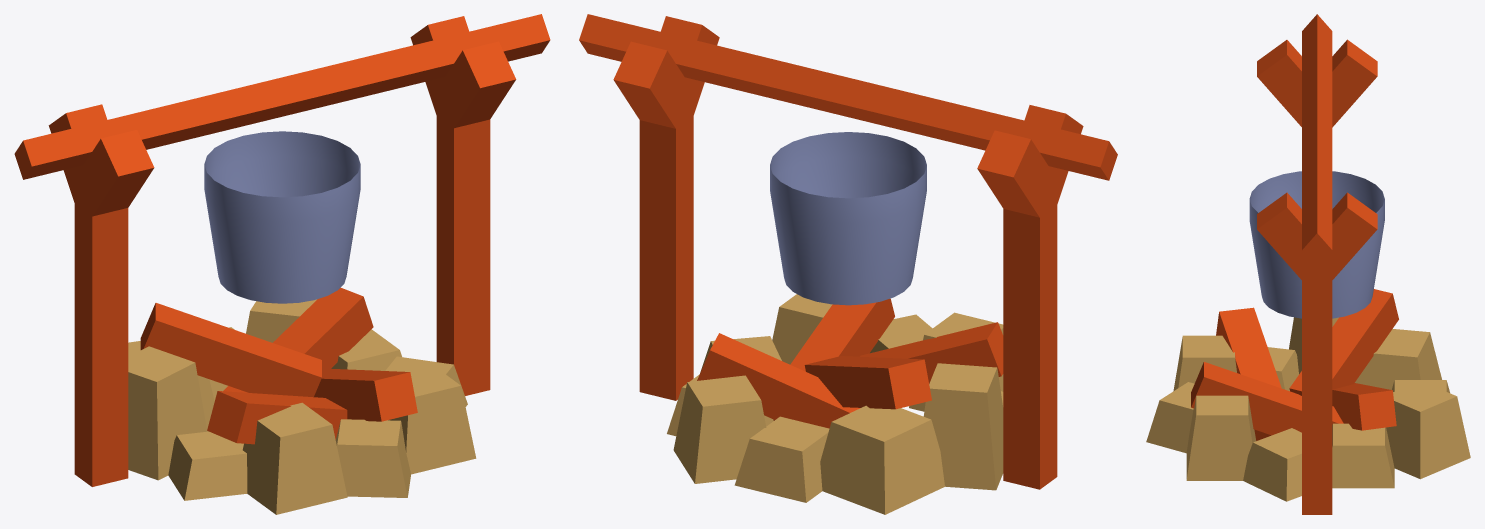
Rendered from campfire.obj.
3 renders of one model, left to right at view 1: azimuth 30°, elevation 25°; view 2: azimuth 150°, elevation 25°; view 3: azimuth 270°, elevation 25°, orthographic. The views are drawn at different scales.
Visible parts, largest first — view 1: campfire, rocks, bucket, wood; view 2: campfire, rocks, bucket, wood; view 3: rocks, campfire, wood, bucket.
Boxes of the visible parts, x1,y1,x2,y2 form: campfire: (14,14,550,486); rocks: (128,299,476,514); bucket: (204,131,360,303); wood: (140,287,417,444); campfire: (579,14,1117,489); rocks: (667,294,1003,514); bucket: (770,132,926,305); wood: (697,298,1003,428); rocks: (1146,317,1470,501); campfire: (1257,14,1377,514); wood: (1191,289,1398,440); bucket: (1249,171,1384,318).
Size of the model in its own units: 0.43 by 0.2812 by 0.2692.
